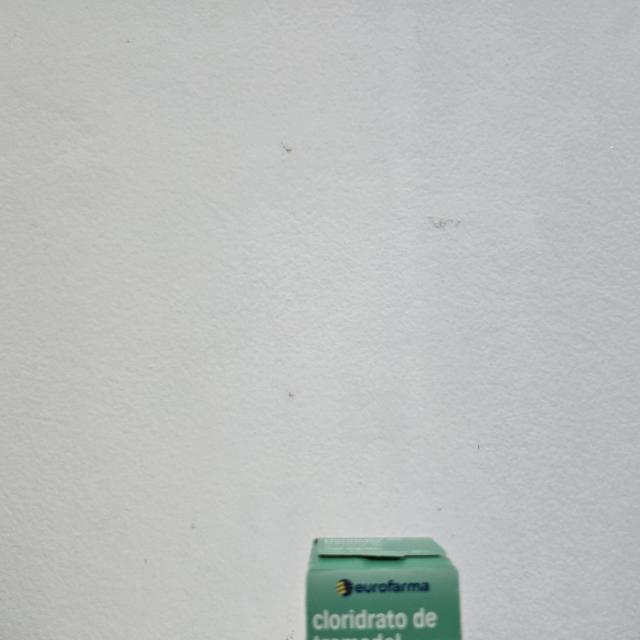tramadol: (300, 533, 468, 640)
